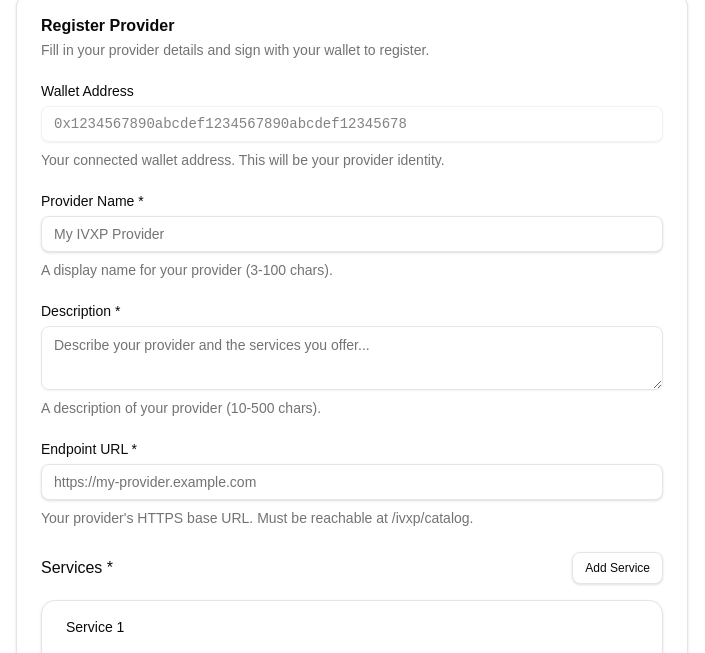
ProviderRegistrationForm › adds a new service entry when 'Add Service' is clicked
Click the button with test id "add-service-button" at [618, 568], box [572,552,663,584]
(page scrolled)
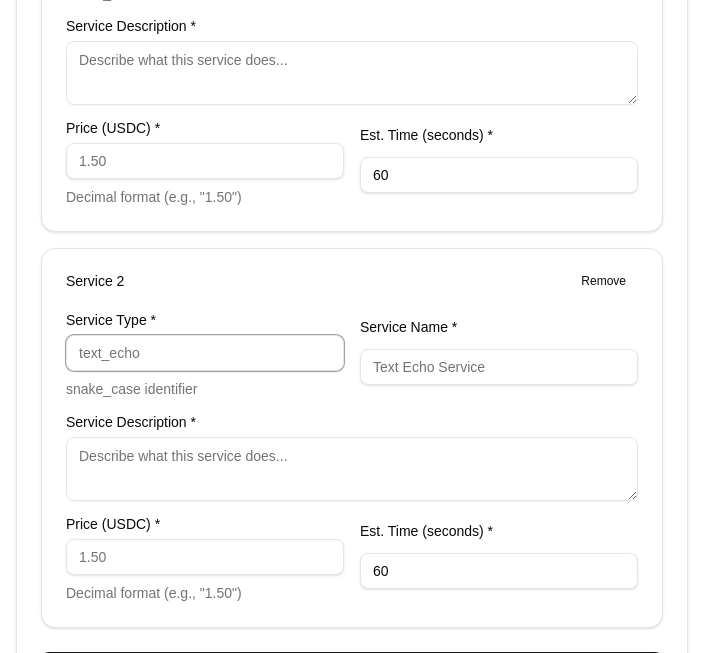
Expected: the element with test id "service-entry-1" is shown, [41,248,663,628]
